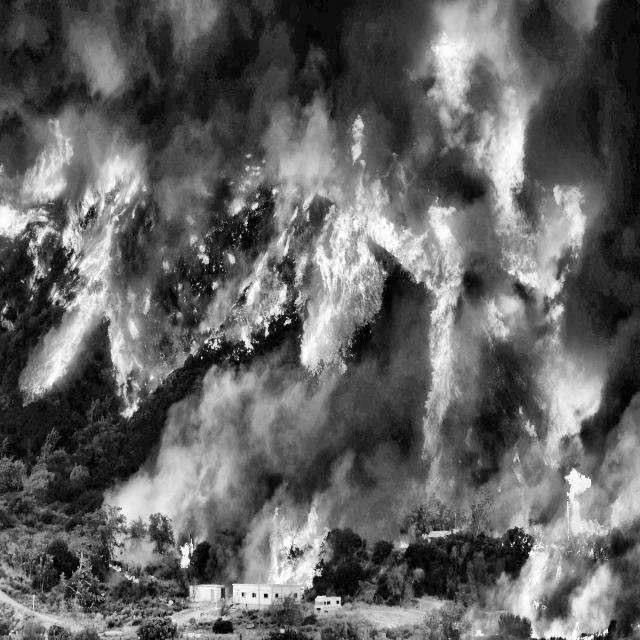fire: (6, 95, 640, 535)
